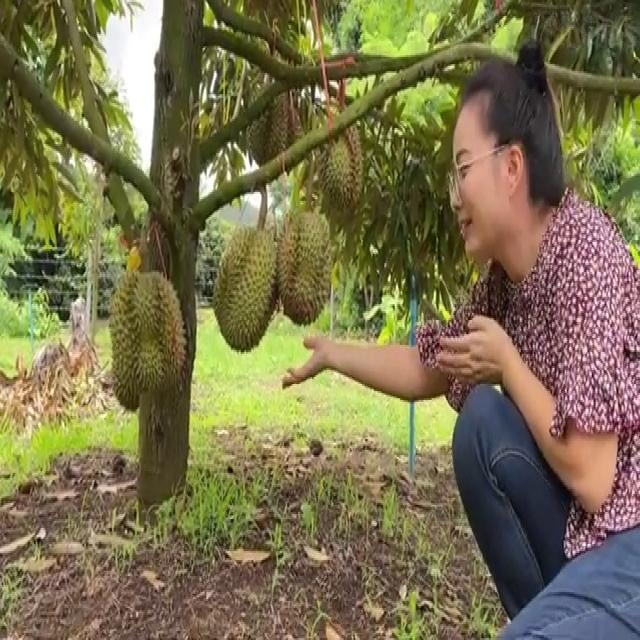durian: (106, 265, 191, 403), (210, 224, 280, 356), (277, 205, 335, 331), (315, 106, 365, 213), (244, 74, 292, 175)
